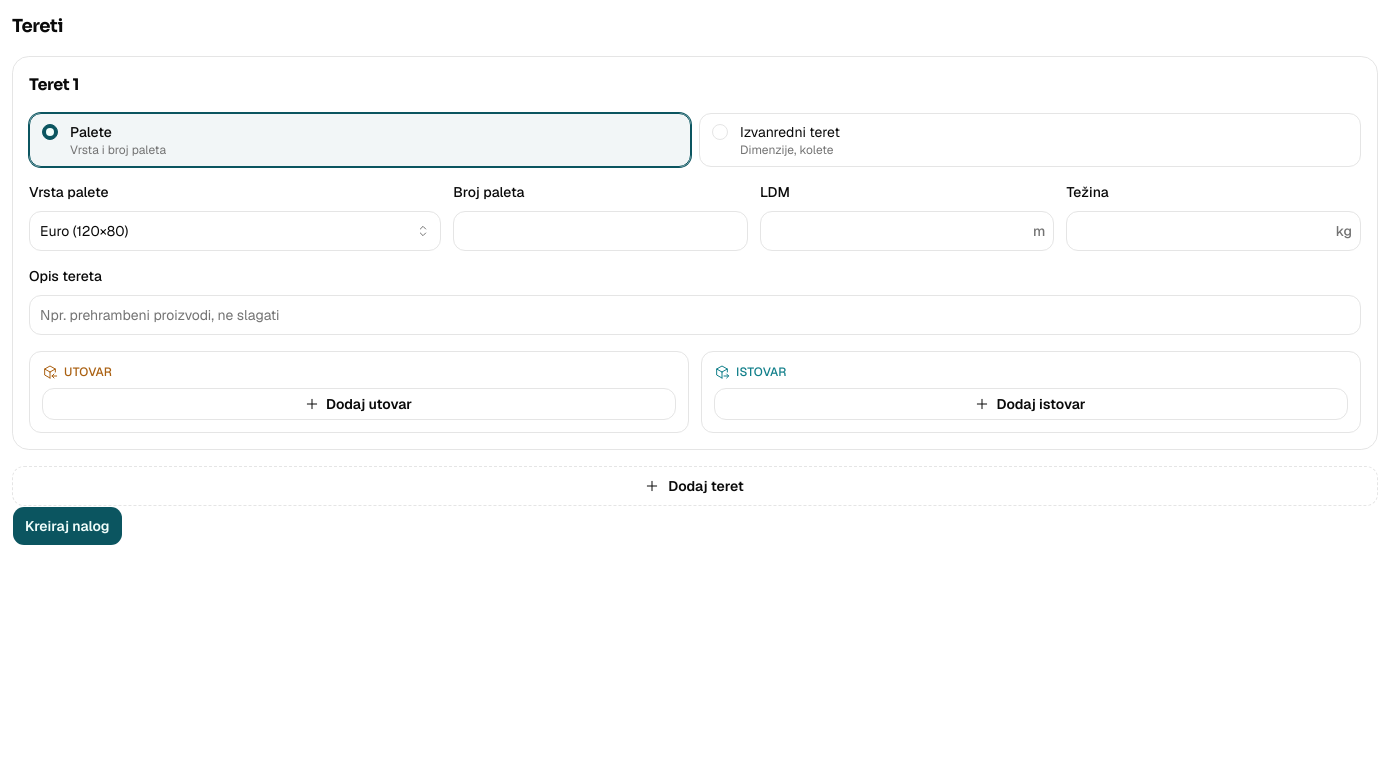
Test case: CargoCard › cargo type › Kolete: the count field has a name
The image size is (1390, 780).
Click the radio button named "Izvanredni teret" next to "Izvanredni teret" at (720, 132), box x1=712 y1=124 x2=728 y2=140
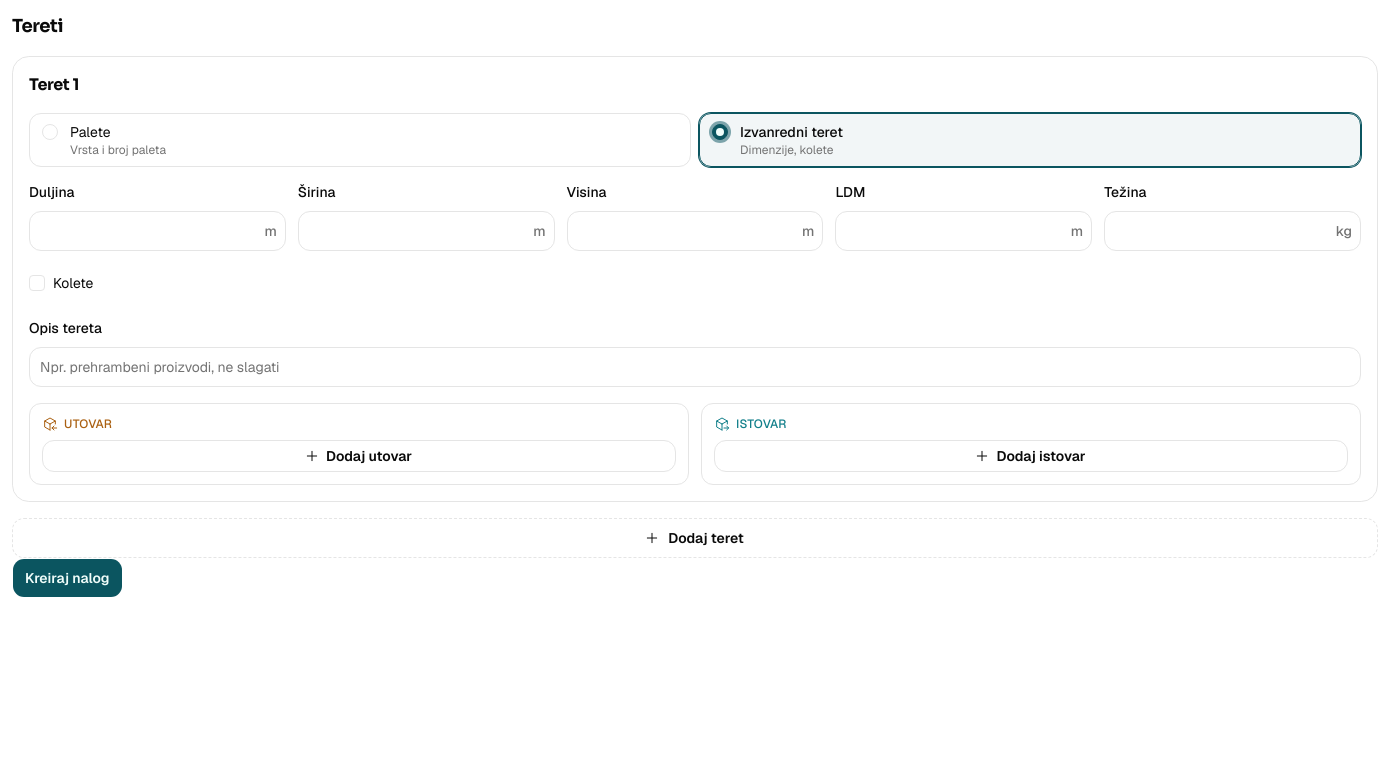
Click the checkbox named "Kolete" at (37, 283), box x1=29 y1=275 x2=45 y2=291
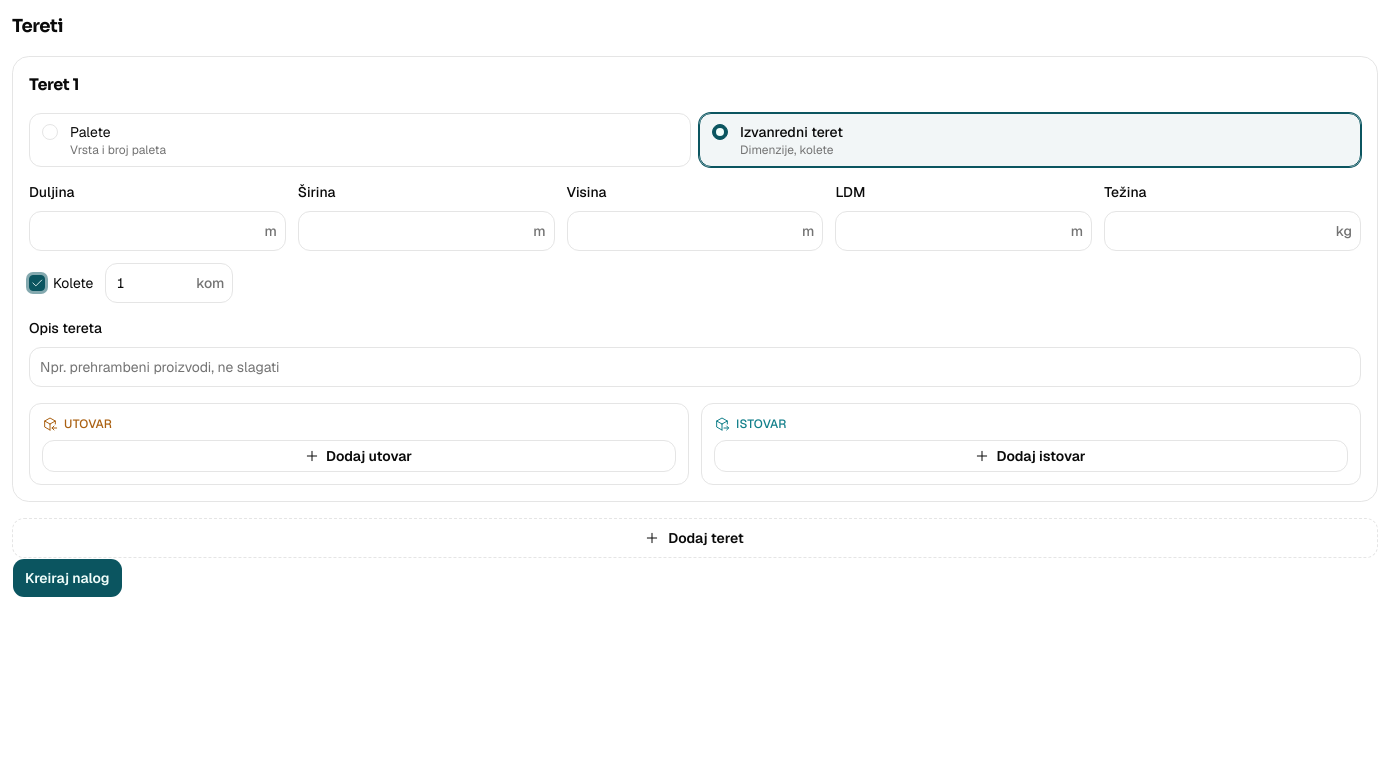
Expected: the field named "Broj koleta" holds "1", x1=106 y1=263 x2=196 y2=303
